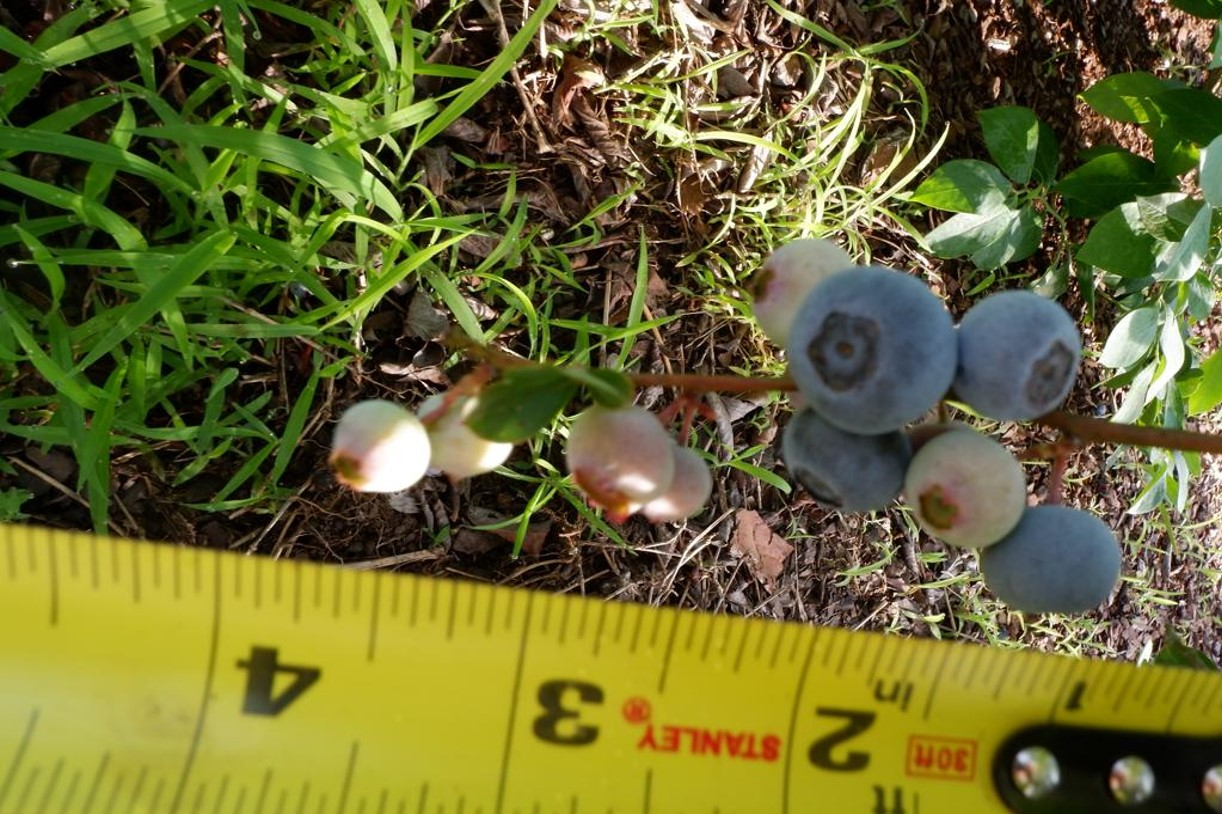Immature: (902, 429, 1026, 546), (566, 406, 676, 524), (752, 239, 855, 347), (331, 400, 431, 493), (419, 392, 511, 475), (641, 448, 712, 525)
Mature: (785, 267, 957, 434), (952, 292, 1083, 421), (979, 505, 1122, 612), (782, 403, 913, 511)
